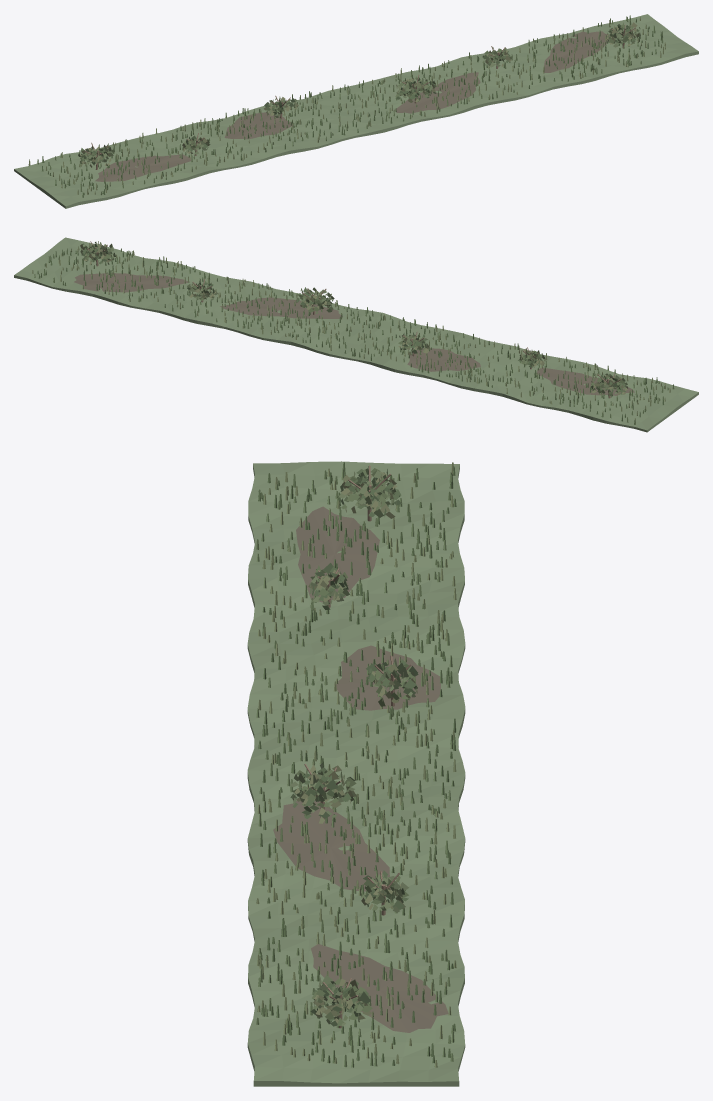
The model's file is r6b2b-pas-zieleni-20m.glb.
The picture shows the model from 3 angles, top to bottom: view 1: azimuth 30°, elevation 25°; view 2: azimuth 150°, elevation 25°; view 3: azimuth 270°, elevation 25°; orthographic projection. The views are drawn at different scales.
Visible parts, largest first — view 1: Pas zieleni 20 m R6b2b Darń oliwkowa, Pas zieleni 20 m R6b2b Ziemia wilgotna, Pas zieleni 20 m R6b2b Zdzbla 2, Pas zieleni 20 m R6b2b Zdzbla 1, Pas zieleni 20 m R6b2b Zdzbla 0, Pas zieleni 20 m R6b2b Drobne liscie 2, Pas zieleni 20 m R6b2b Drobne liscie 3, Pas zieleni 20 m R6b2b Drobne liscie 0, Pas zieleni 20 m R6b2b Drobne liscie 1, Pas zieleni 20 m R6b2b Galazki krzewu; view 2: Pas zieleni 20 m R6b2b Darń oliwkowa, Pas zieleni 20 m R6b2b Ziemia wilgotna, Pas zieleni 20 m R6b2b Zdzbla 2, Pas zieleni 20 m R6b2b Zdzbla 1, Pas zieleni 20 m R6b2b Zdzbla 0, Pas zieleni 20 m R6b2b Drobne liscie 1, Pas zieleni 20 m R6b2b Drobne liscie 3, Pas zieleni 20 m R6b2b Drobne liscie 2, Pas zieleni 20 m R6b2b Drobne liscie 0, Pas zieleni 20 m R6b2b Galazki krzewu; view 3: Pas zieleni 20 m R6b2b Darń oliwkowa, Pas zieleni 20 m R6b2b Ziemia wilgotna, Pas zieleni 20 m R6b2b Zdzbla 2, Pas zieleni 20 m R6b2b Zdzbla 0, Pas zieleni 20 m R6b2b Zdzbla 1, Pas zieleni 20 m R6b2b Drobne liscie 0, Pas zieleni 20 m R6b2b Drobne liscie 1, Pas zieleni 20 m R6b2b Drobne liscie 3, Pas zieleni 20 m R6b2b Drobne liscie 2.
Part boxes in pixels (bbox=[...]): Pas zieleni 20 m R6b2b Darń oliwkowa: bbox=[14, 14, 698, 208]; Pas zieleni 20 m R6b2b Ziemia wilgotna: bbox=[95, 31, 609, 181]; Pas zieleni 20 m R6b2b Zdzbla 2: bbox=[28, 16, 663, 197]; Pas zieleni 20 m R6b2b Zdzbla 1: bbox=[29, 17, 665, 194]; Pas zieleni 20 m R6b2b Zdzbla 0: bbox=[37, 15, 663, 195]; Pas zieleni 20 m R6b2b Drobne liscie 2: bbox=[82, 25, 637, 164]; Pas zieleni 20 m R6b2b Drobne liscie 3: bbox=[80, 22, 639, 167]; Pas zieleni 20 m R6b2b Drobne liscie 0: bbox=[80, 23, 640, 168]; Pas zieleni 20 m R6b2b Drobne liscie 1: bbox=[78, 23, 640, 166]; Pas zieleni 20 m R6b2b Galazki krzewu: bbox=[84, 24, 635, 169]; Pas zieleni 20 m R6b2b Darń oliwkowa: bbox=[14, 237, 698, 432]; Pas zieleni 20 m R6b2b Ziemia wilgotna: bbox=[74, 273, 634, 395]; Pas zieleni 20 m R6b2b Zdzbla 2: bbox=[37, 249, 674, 424]; Pas zieleni 20 m R6b2b Zdzbla 1: bbox=[32, 241, 670, 424]; Pas zieleni 20 m R6b2b Zdzbla 0: bbox=[34, 248, 668, 422]; Pas zieleni 20 m R6b2b Drobne liscie 1: bbox=[82, 242, 627, 397]; Pas zieleni 20 m R6b2b Drobne liscie 3: bbox=[80, 244, 627, 394]; Pas zieleni 20 m R6b2b Drobne liscie 2: bbox=[80, 242, 627, 394]; Pas zieleni 20 m R6b2b Drobne liscie 0: bbox=[81, 243, 626, 396]; Pas zieleni 20 m R6b2b Galazki krzewu: bbox=[87, 241, 621, 398]; Pas zieleni 20 m R6b2b Darń oliwkowa: bbox=[247, 461, 465, 1086]; Pas zieleni 20 m R6b2b Ziemia wilgotna: bbox=[273, 506, 448, 1032]; Pas zieleni 20 m R6b2b Zdzbla 2: bbox=[258, 462, 456, 1065]; Pas zieleni 20 m R6b2b Zdzbla 0: bbox=[256, 468, 454, 1067]; Pas zieleni 20 m R6b2b Zdzbla 1: bbox=[256, 462, 456, 1067]; Pas zieleni 20 m R6b2b Drobne liscie 0: bbox=[290, 469, 418, 1026]; Pas zieleni 20 m R6b2b Drobne liscie 1: bbox=[292, 468, 417, 1025]; Pas zieleni 20 m R6b2b Drobne liscie 3: bbox=[292, 472, 417, 1023]; Pas zieleni 20 m R6b2b Drobne liscie 2: bbox=[290, 470, 417, 1026].
Size of the model in its own units: 20 by 0.8407 by 2.98.
